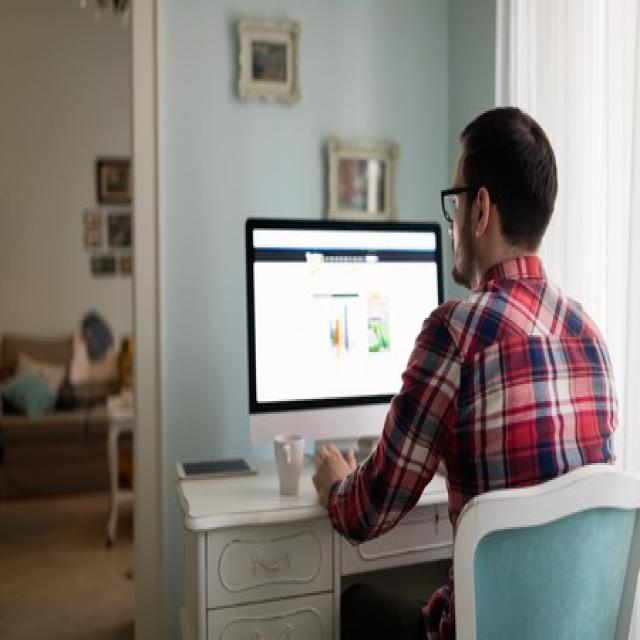desktop-person: (230, 91, 639, 640)
